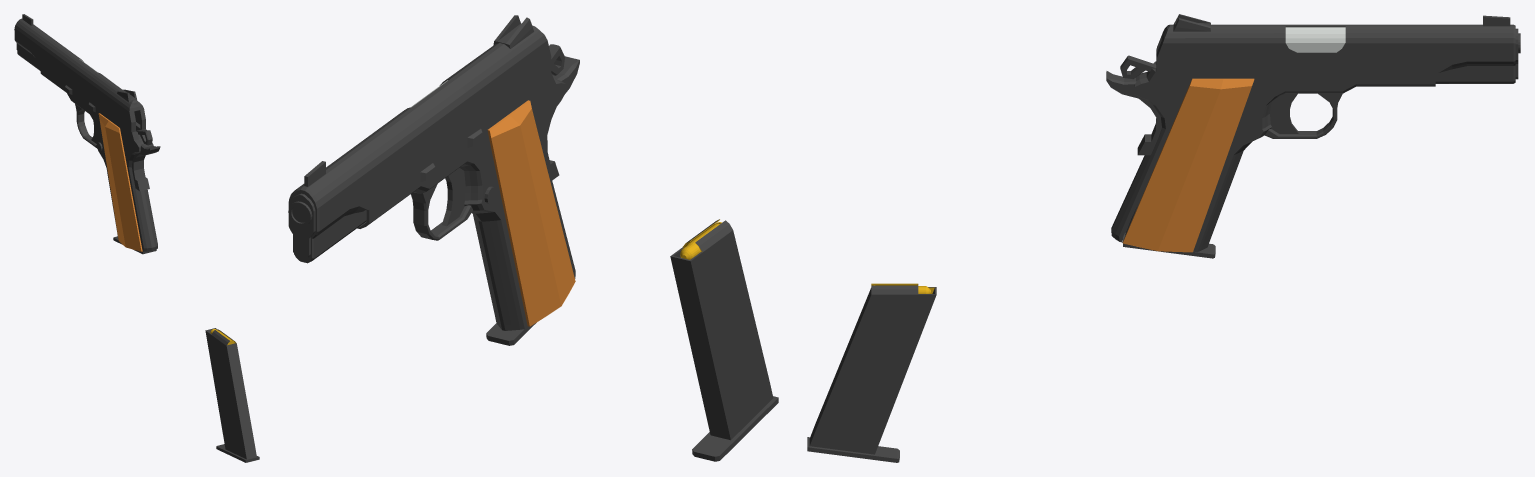
3 views of the same model, side by side, from view 1: azimuth 30°, elevation 25°; view 2: azimuth 150°, elevation 25°; view 3: azimuth 270°, elevation 25° (orthographic). The views are drawn at different scales.
Visible parts, largest first — view 1: Cube.002, Cube.010, Cube, Cube.001; view 2: Cube.002, Cube.010, Cube, Cube.001, Cube.008, Cube.006; view 3: Cube.002, Cube.010, Cube, Cube.001, Cube.003, Cube.008.
Boxes of the visible parts, bbox=[...] form: Cube.002: bbox=[14, 14, 145, 132]; Cube.010: bbox=[205, 328, 259, 462]; Cube: bbox=[40, 67, 160, 251]; Cube.001: bbox=[98, 113, 142, 251]; Cube.002: bbox=[288, 15, 551, 263]; Cube.010: bbox=[670, 219, 778, 461]; Cube: bbox=[357, 56, 579, 330]; Cube.001: bbox=[487, 100, 575, 326]; Cube.008: bbox=[442, 168, 465, 226]; Cube.006: bbox=[486, 322, 536, 345]; Cube.002: bbox=[1156, 14, 1518, 83]; Cube.010: bbox=[807, 283, 936, 462]; Cube: bbox=[1106, 61, 1435, 251]; Cube.001: bbox=[1122, 78, 1254, 252]; Cube.003: bbox=[1285, 27, 1345, 52]; Cube.008: bbox=[1270, 93, 1298, 133].
Size of the model in its own units: 0.9909 by 10.81 by 15.82.
